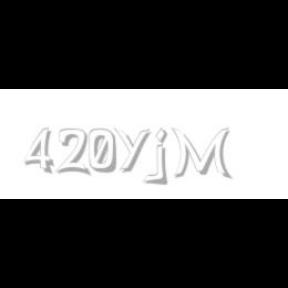0: (88, 128, 120, 174)
2: (55, 128, 89, 176)
4: (23, 128, 54, 174)
M: (170, 128, 230, 180)
j: (153, 128, 182, 186)
y: (114, 128, 154, 172)
